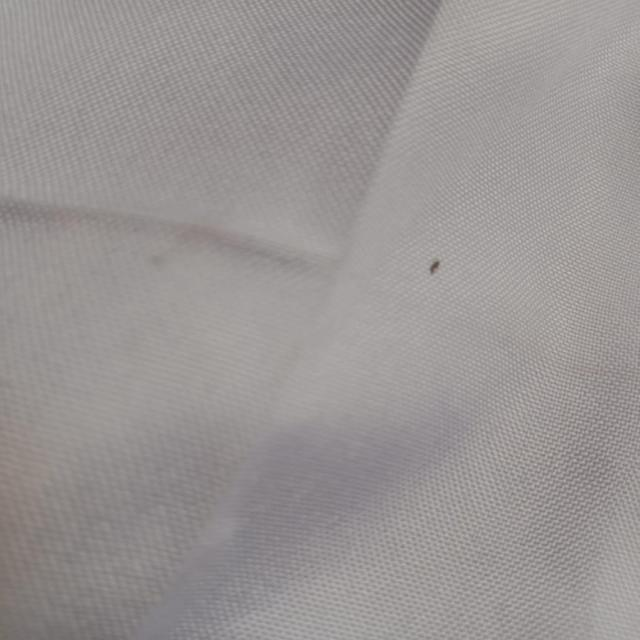stain: (412, 252, 454, 282)
